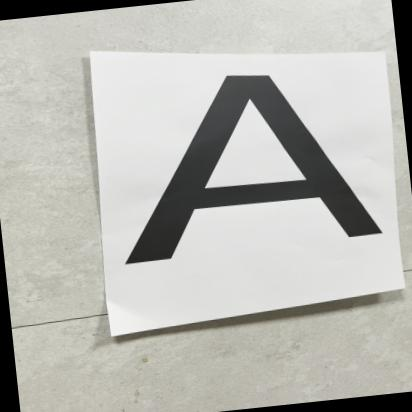seat: (96, 42, 412, 300)
